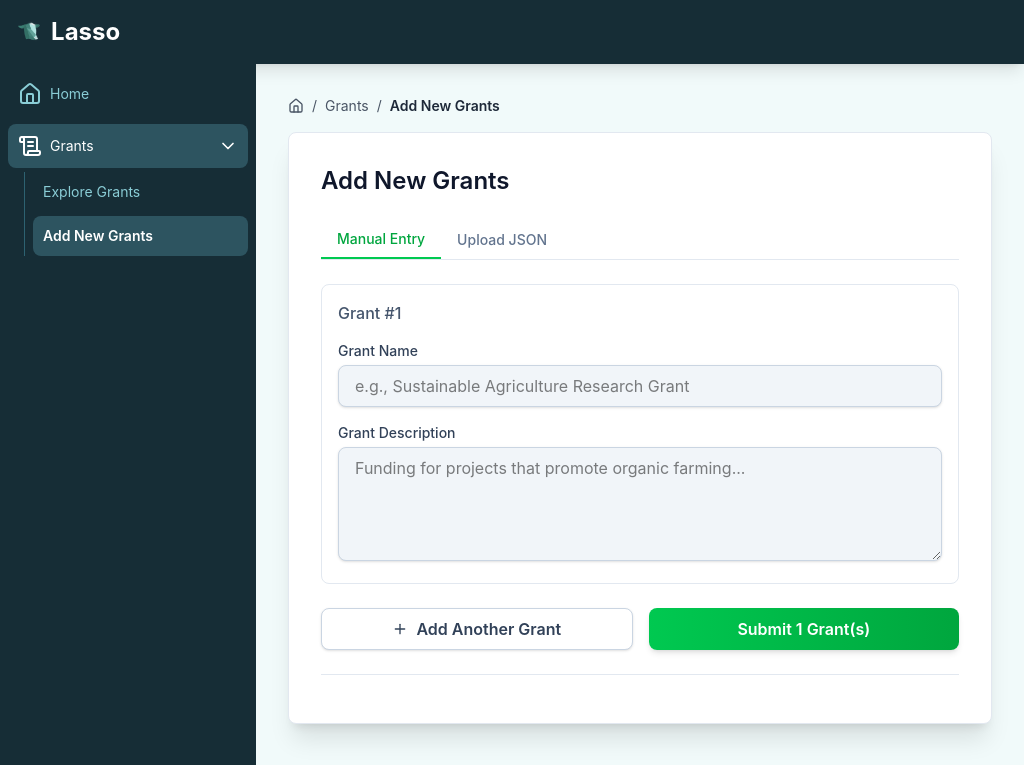
Test: Add Grants - Manual Entry Flow › should allow removing a grant form
// Add a second grant
Click the button with test id "add-grant-button" at [477, 629], box x1=321 y1=608 x2=633 y2=650
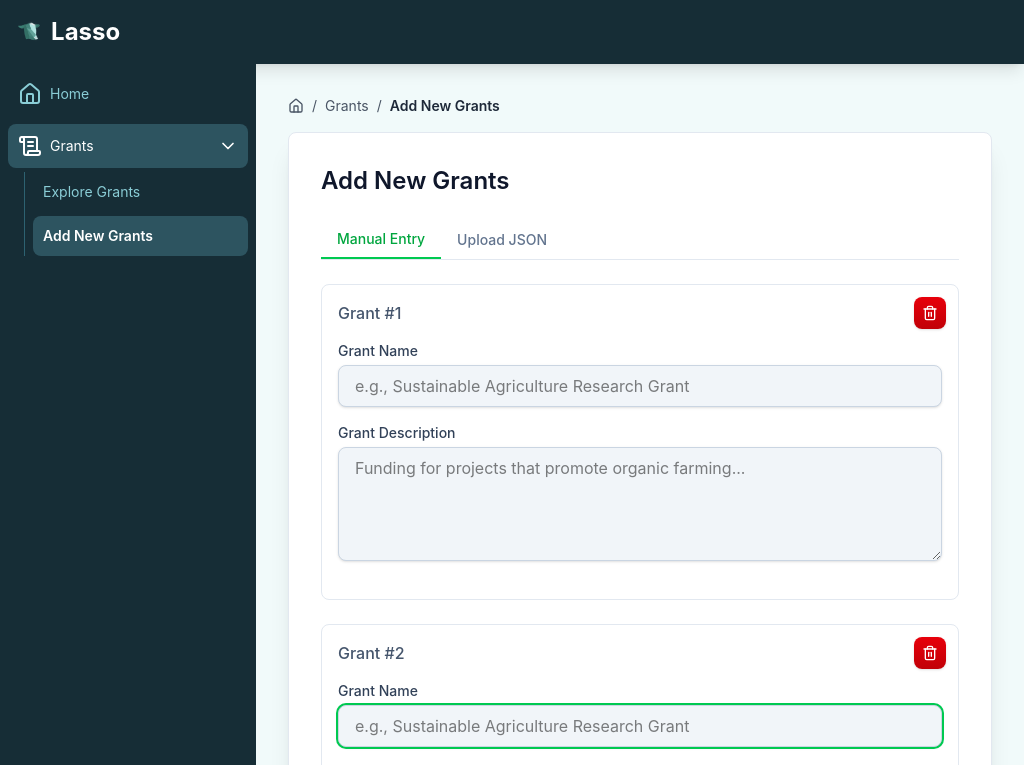
// Remove the second grant (index 1)
Click the button with test id "remove-grant-1" at [930, 653], box x1=914 y1=637 x2=946 y2=669
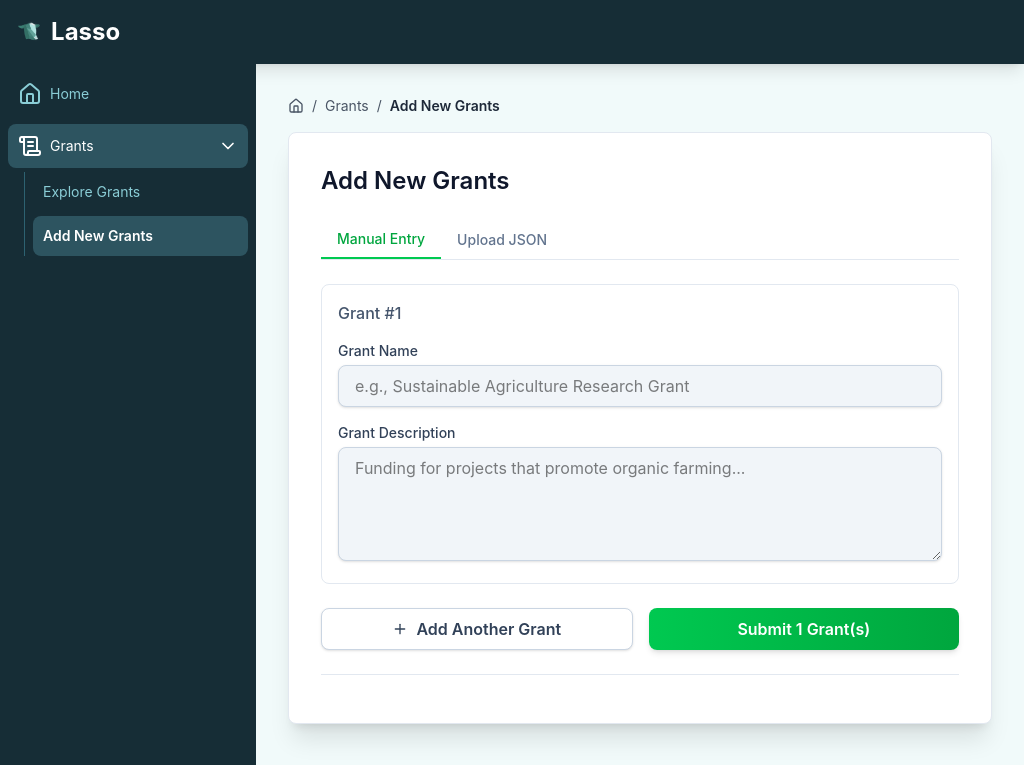
expect the field with test id "grant-name-1" is gone: met
